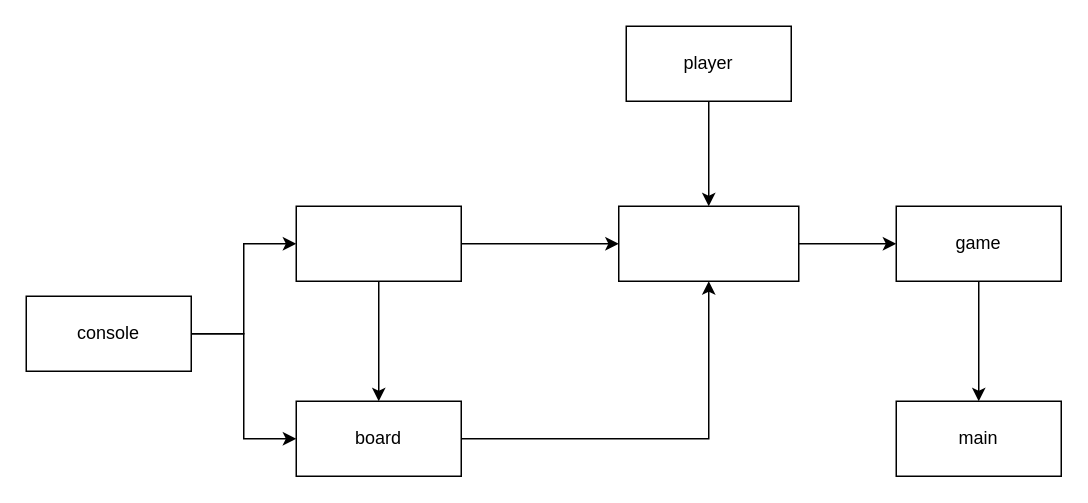
Some shapes in this 1088 by 503 pixel diagram are drawn without their labels. The centre of each missing label's shape, as x and y in pixels:
"block" belongs at [708,243].
"brick" belongs at [378,243].
